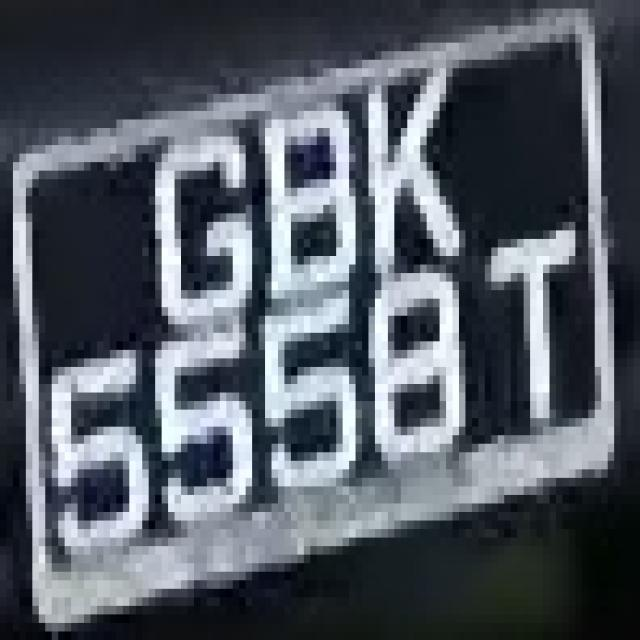5: (148, 307, 258, 563), (45, 324, 142, 572), (259, 282, 362, 512)
8: (368, 273, 466, 461)
B: (259, 42, 349, 316)
G: (129, 111, 265, 333)
K: (349, 42, 466, 264)
